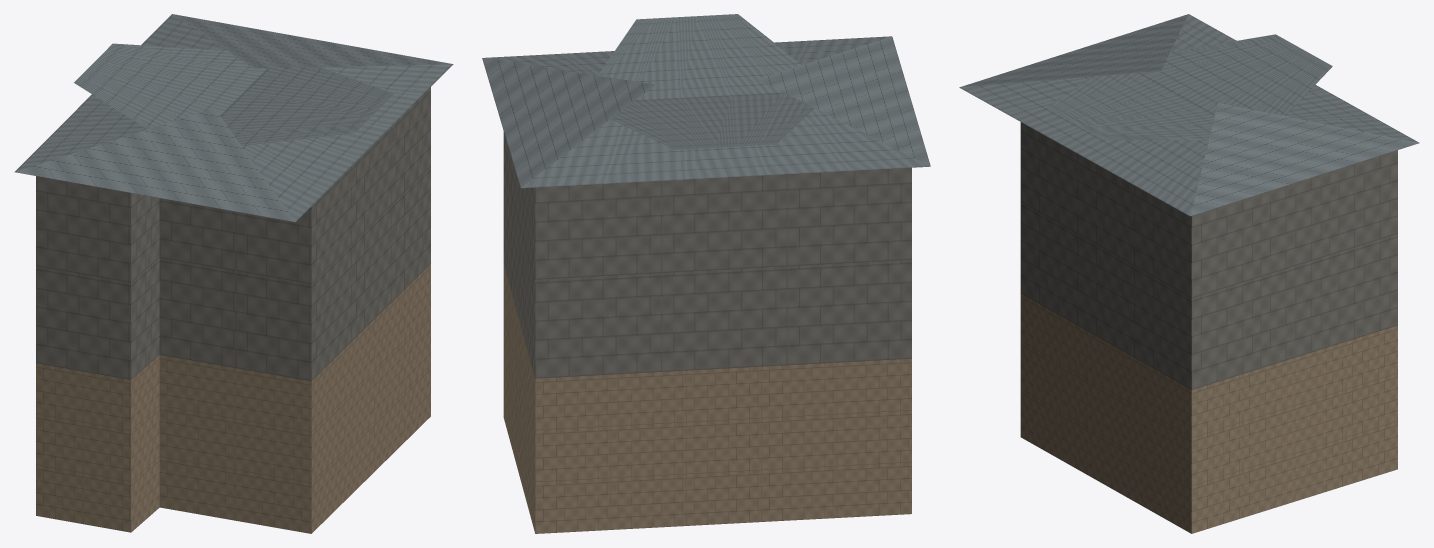
Rendered from bld_c14_37_414.gltf.
3 renders of one model, left to right at view 1: azimuth 30°, elevation 25°; view 2: azimuth 150°, elevation 25°; view 3: azimuth 270°, elevation 25°, orthographic. The views are drawn at different scales.
Parts seen in each view (by area): view 1: bld_c14_37_414; view 2: bld_c14_37_414; view 3: bld_c14_37_414.
Part boxes in pixels (box(x1,y1,x2,y2)): bld_c14_37_414: box(14, 14, 453, 533); bld_c14_37_414: box(482, 14, 930, 533); bld_c14_37_414: box(959, 14, 1419, 533).
Bounding box in the file's own units: 15.38 × 12.6 × 14.79.
3 materials, 3 textured.
